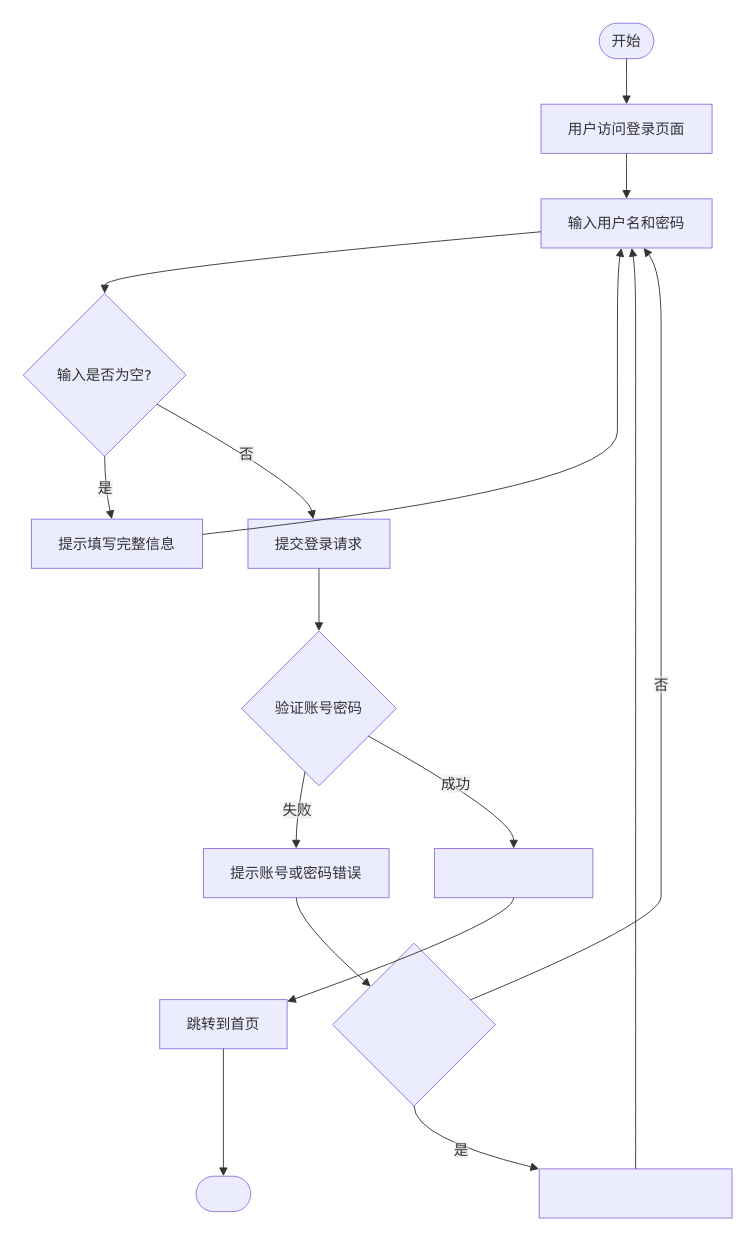
Some shapes in this 748 by 1234 pixel diagram are drawn without their labels. The shapes that lost their labels are listed below. From the top down, each one's centre as x and y in pixels, then its label:
point (513, 873): 生成会话/Token
point (413, 1024): 失败次数超限?
point (223, 1193): 结束
point (635, 1193): 锁定账号/要求验证码
